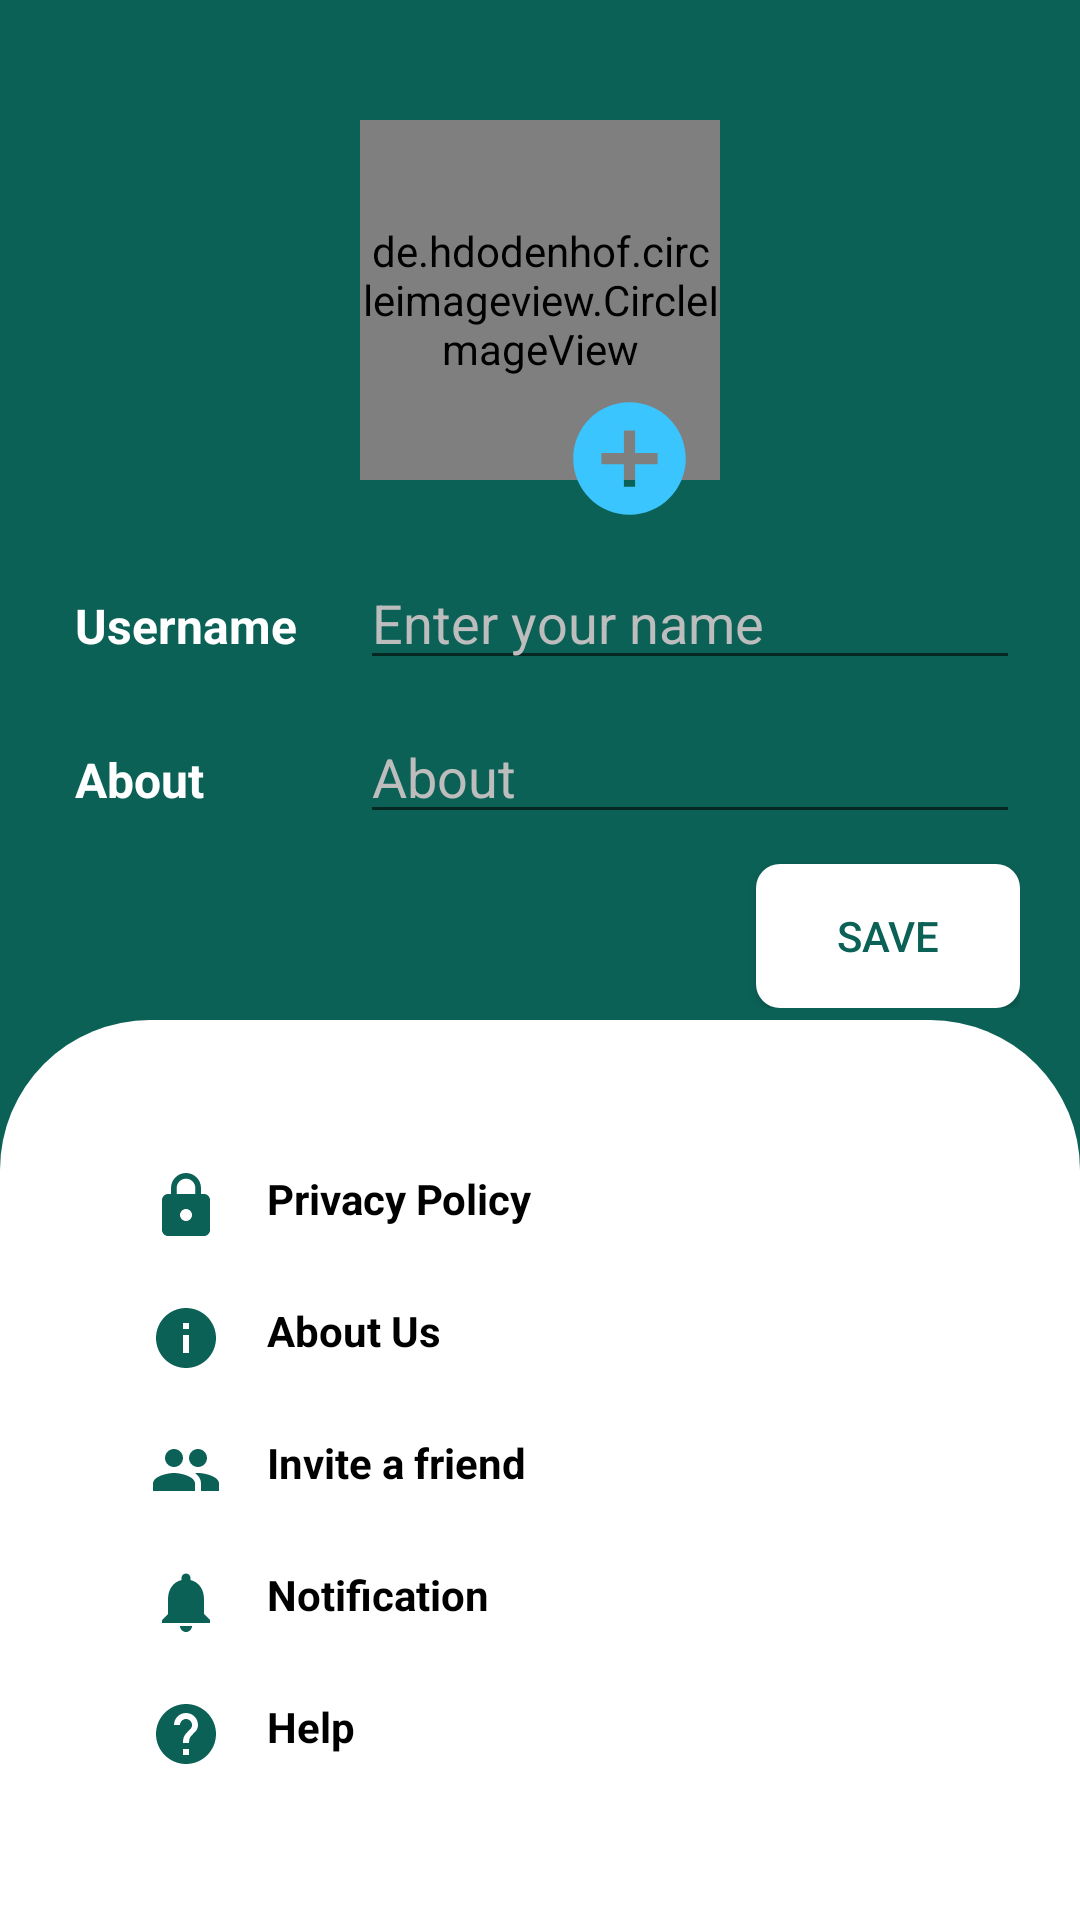

Named icons in this screenshot (1080×1920) and their centers, [x,y]:
plus: [629,458]
